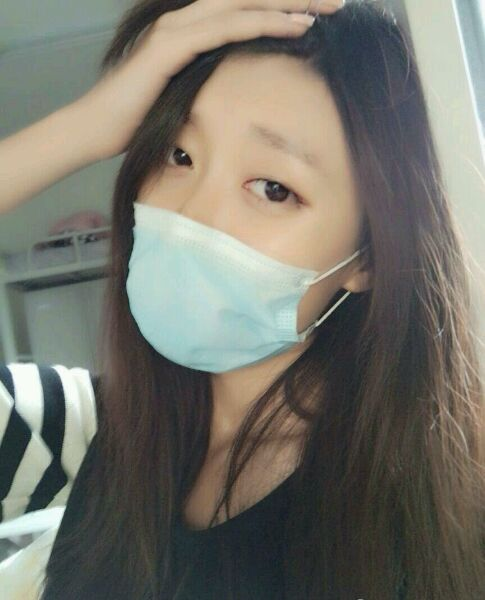face_mask: (129, 44, 340, 375)
